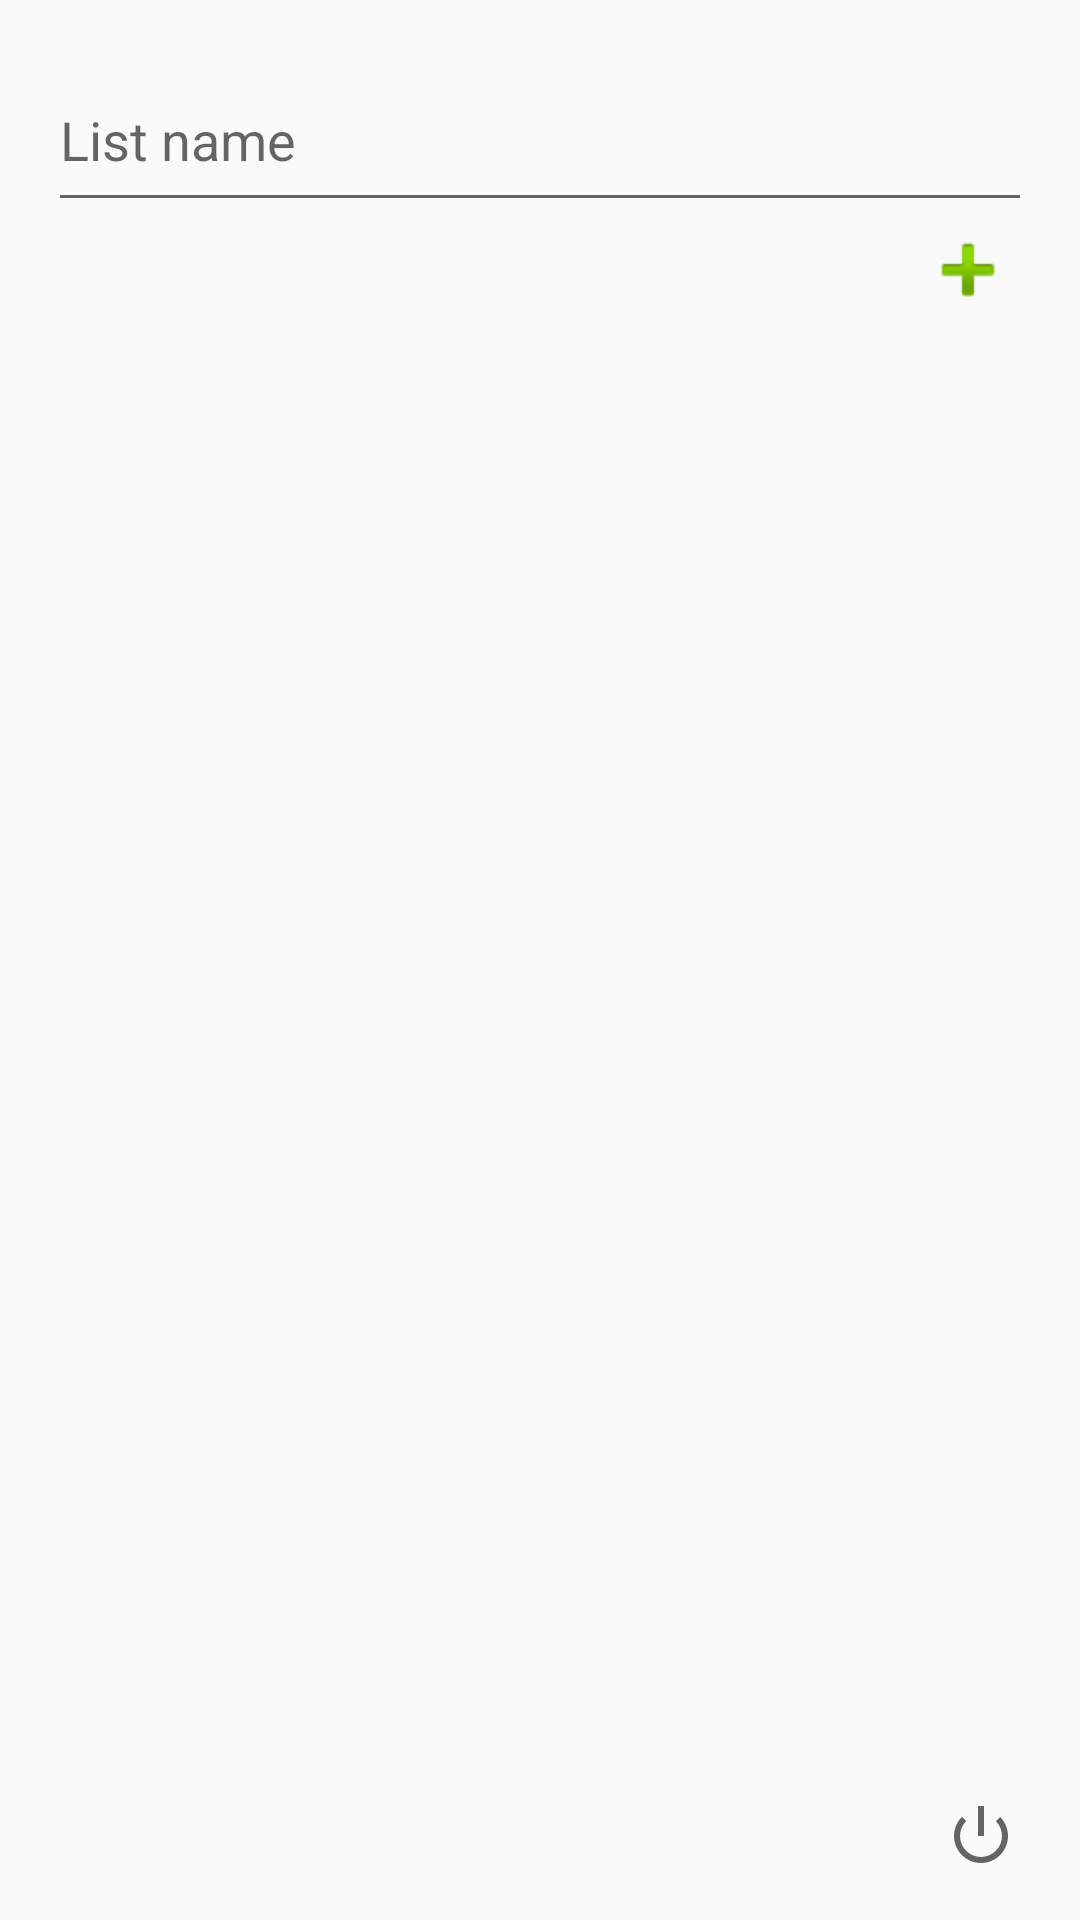

Where to tap for icons on this 1080px×1920px app screen, as (x=x, y=y):
Add list: (x=968, y=270)
Close session: (x=981, y=1834)
